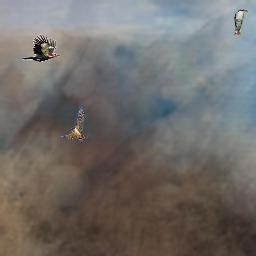Cuckoo: (234, 9, 248, 35)
Swallow: (61, 106, 88, 143)
Woodpecker: (21, 34, 61, 62)
